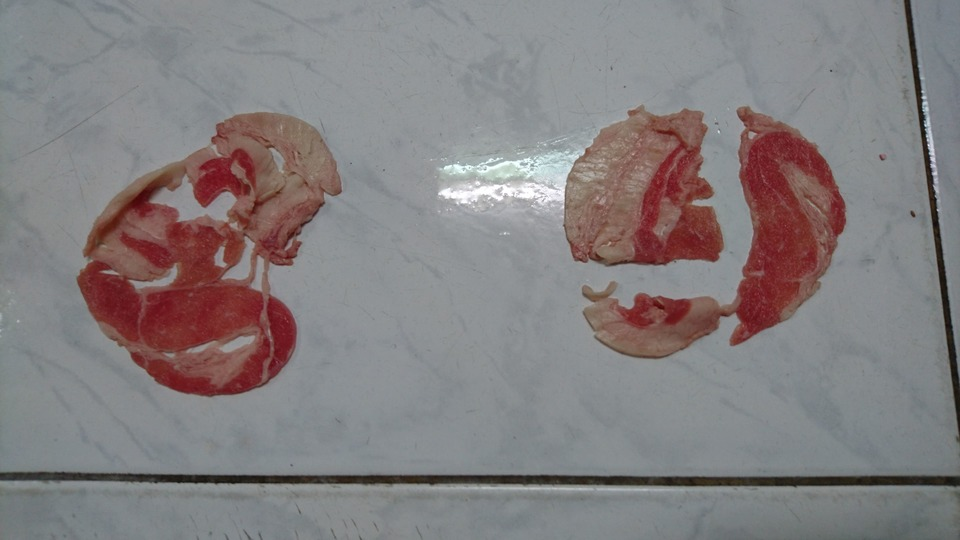restructured meat: (559, 96, 851, 360), (79, 111, 337, 395)
